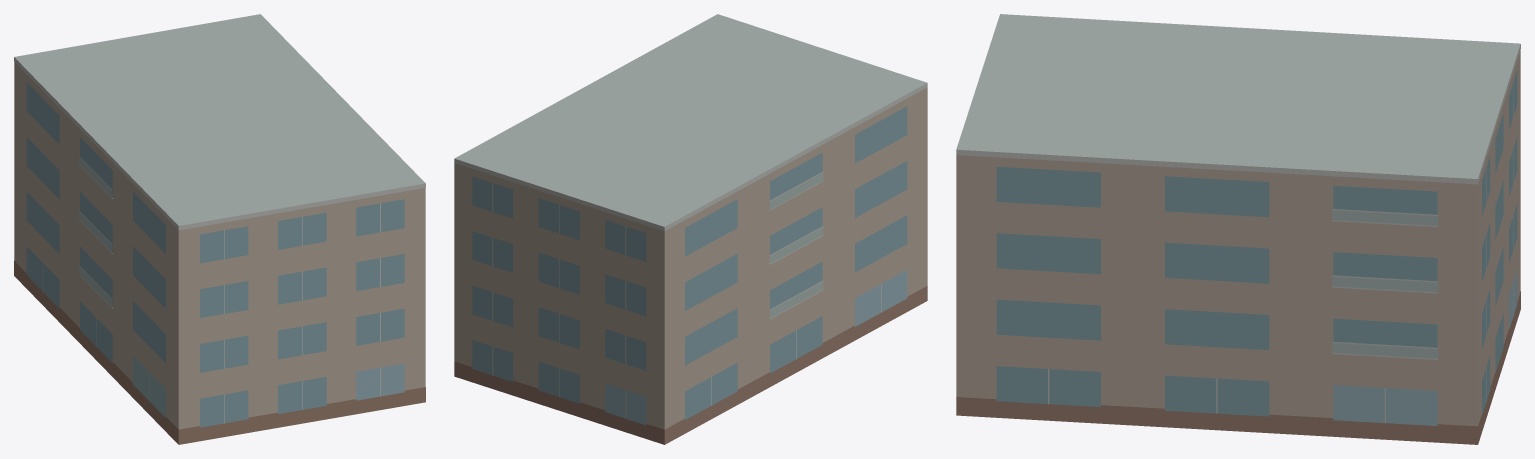
File: residential-7825b465-527f-4f68-8300-e13260d2b228.glb
3 views of the same model, side by side, from view 1: azimuth 30°, elevation 25°; view 2: azimuth 150°, elevation 25°; view 3: azimuth 270°, elevation 25° (orthographic). The views are drawn at different scales.
Visible parts, largest first — view 1: residential-7825b465-527f-4f68-8300-e13260d2b228.tmp; view 2: residential-7825b465-527f-4f68-8300-e13260d2b228.tmp; view 3: residential-7825b465-527f-4f68-8300-e13260d2b228.tmp.
Boxes of the visible parts, x1,y1,x2,y2 form: residential-7825b465-527f-4f68-8300-e13260d2b228.tmp: (14,14,425,444); residential-7825b465-527f-4f68-8300-e13260d2b228.tmp: (454,14,927,444); residential-7825b465-527f-4f68-8300-e13260d2b228.tmp: (956,14,1520,444).
Size of the model in its own units: 16.27 by 12.2 by 23.5.
